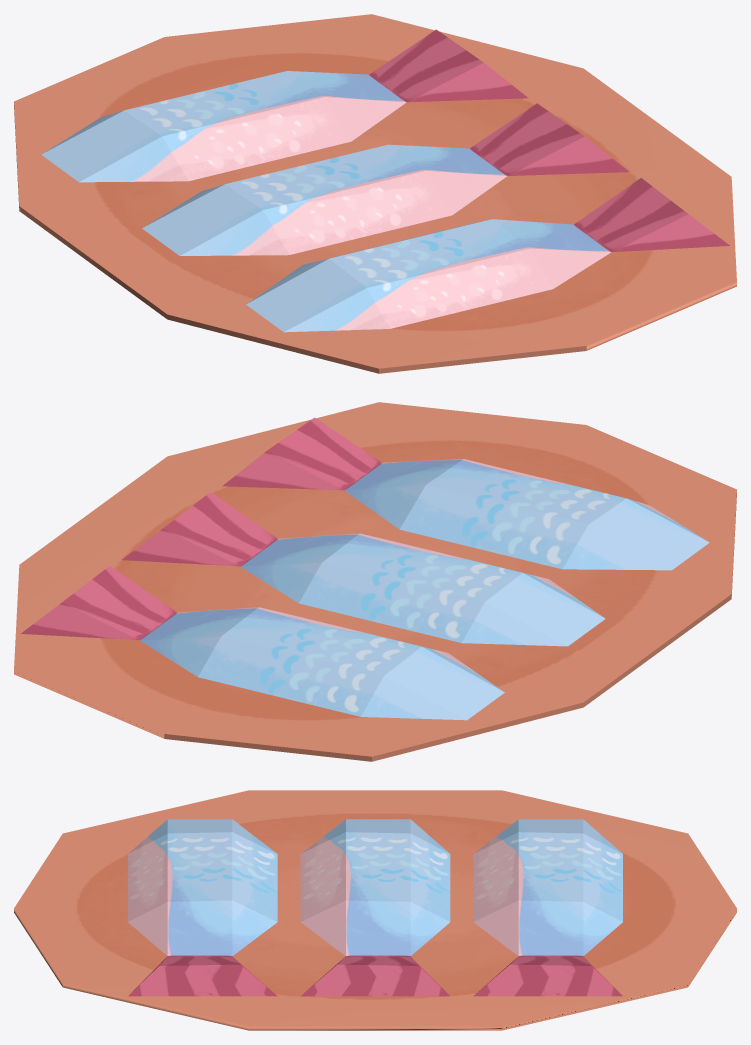
Rendered from fishPlatter.fbx.
The picture shows the model from 3 angles, top to bottom: view 1: azimuth 30°, elevation 25°; view 2: azimuth 150°, elevation 25°; view 3: azimuth 270°, elevation 25°; orthographic projection. The views are drawn at different scales.
Visible parts, largest first — view 1: fish1; view 2: fish1; view 3: fish1.
Boxes of the visible parts, box(x1,y1,x2,y2) form: fish1: box(14, 14, 736, 373); fish1: box(14, 402, 736, 761); fish1: box(14, 790, 736, 1030).
Size of the model in its own units: 0.7467 by 0.0388 by 0.9673.
